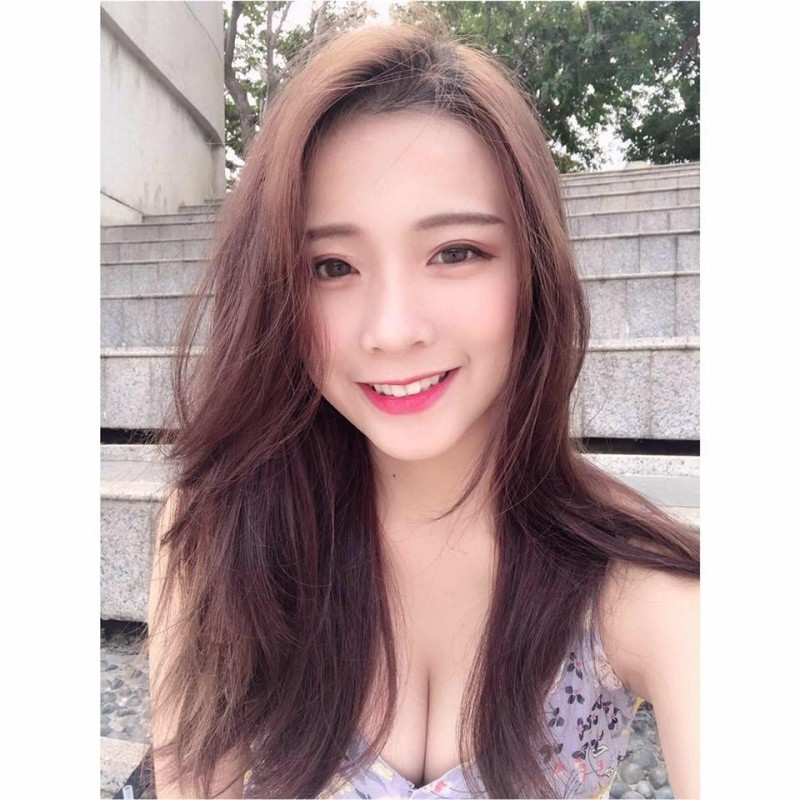people: (191, 21, 618, 800)
